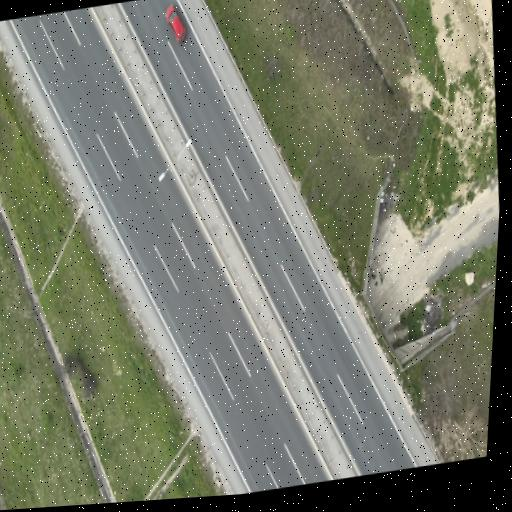car: (166, 4, 186, 43)
